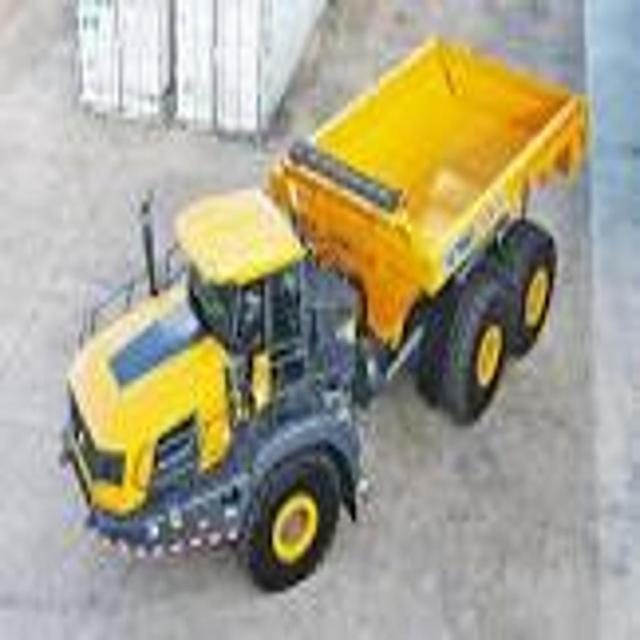dump_truck: (64, 35, 595, 593)
